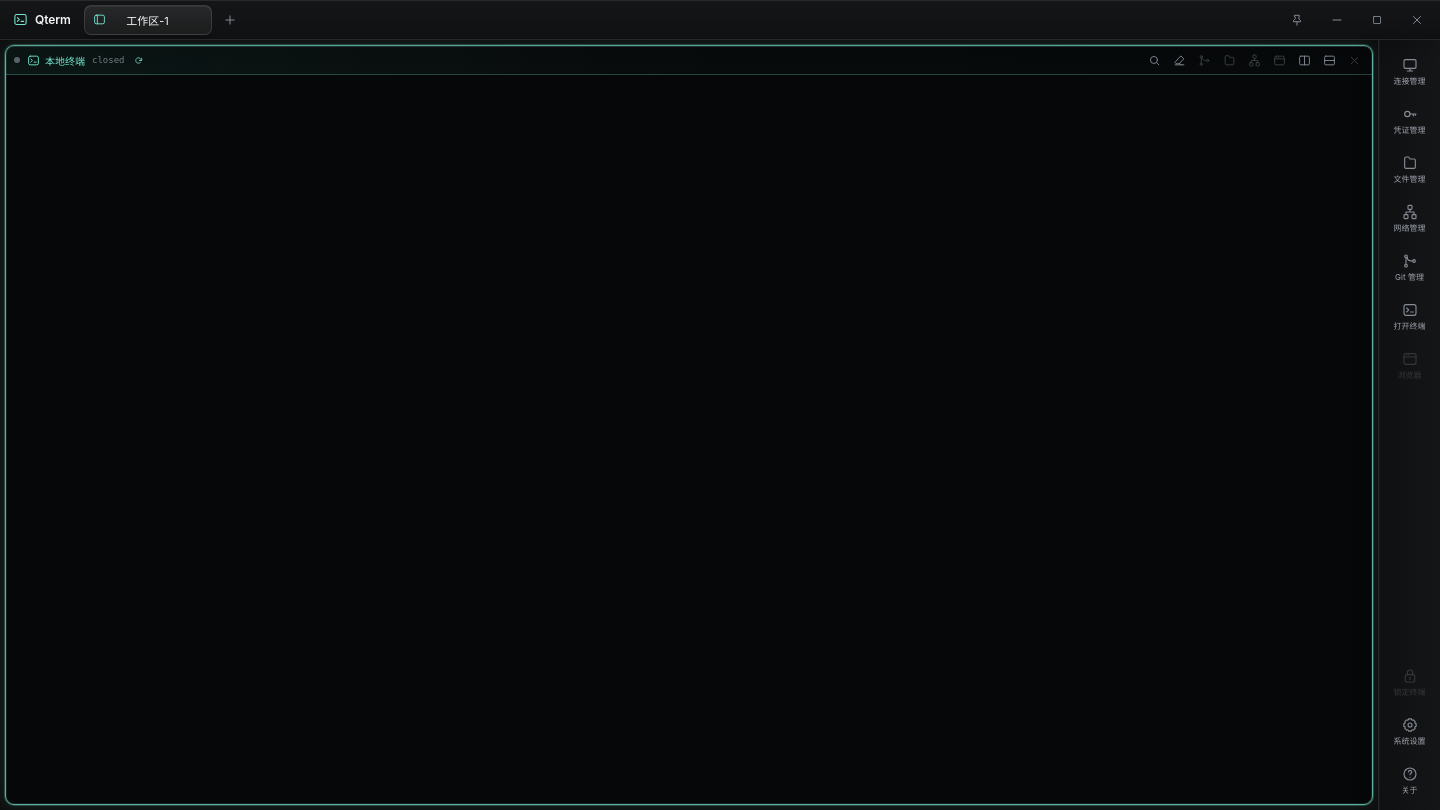
closes other workspaces with one confirmation through the real shell and reducer
This screenshot has width=1440, height=810.
Click the button named "新建工作区".
click(230, 20)  # box [217, 6, 243, 32]
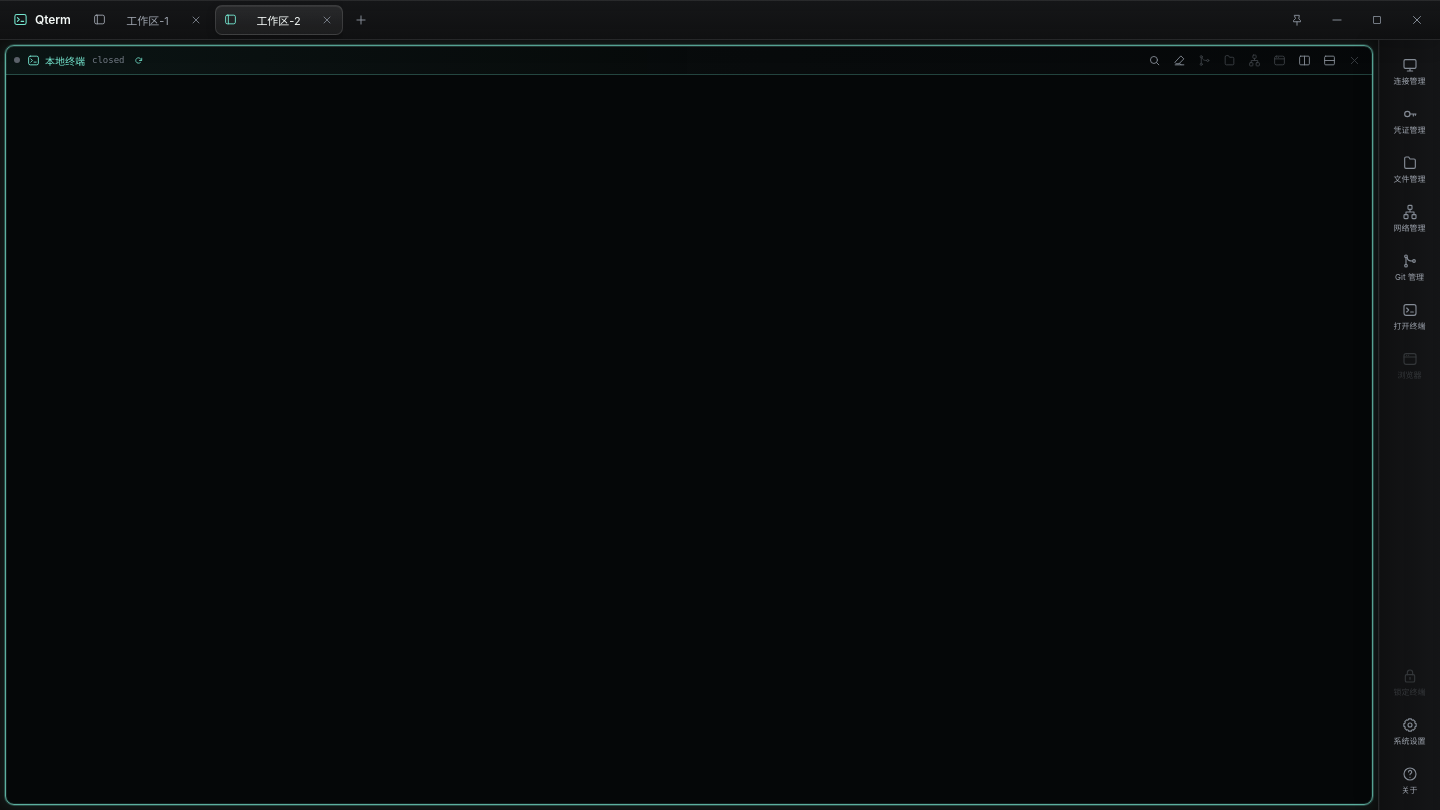
Click the button named "新建工作区".
click(361, 20)  # box [348, 6, 374, 32]
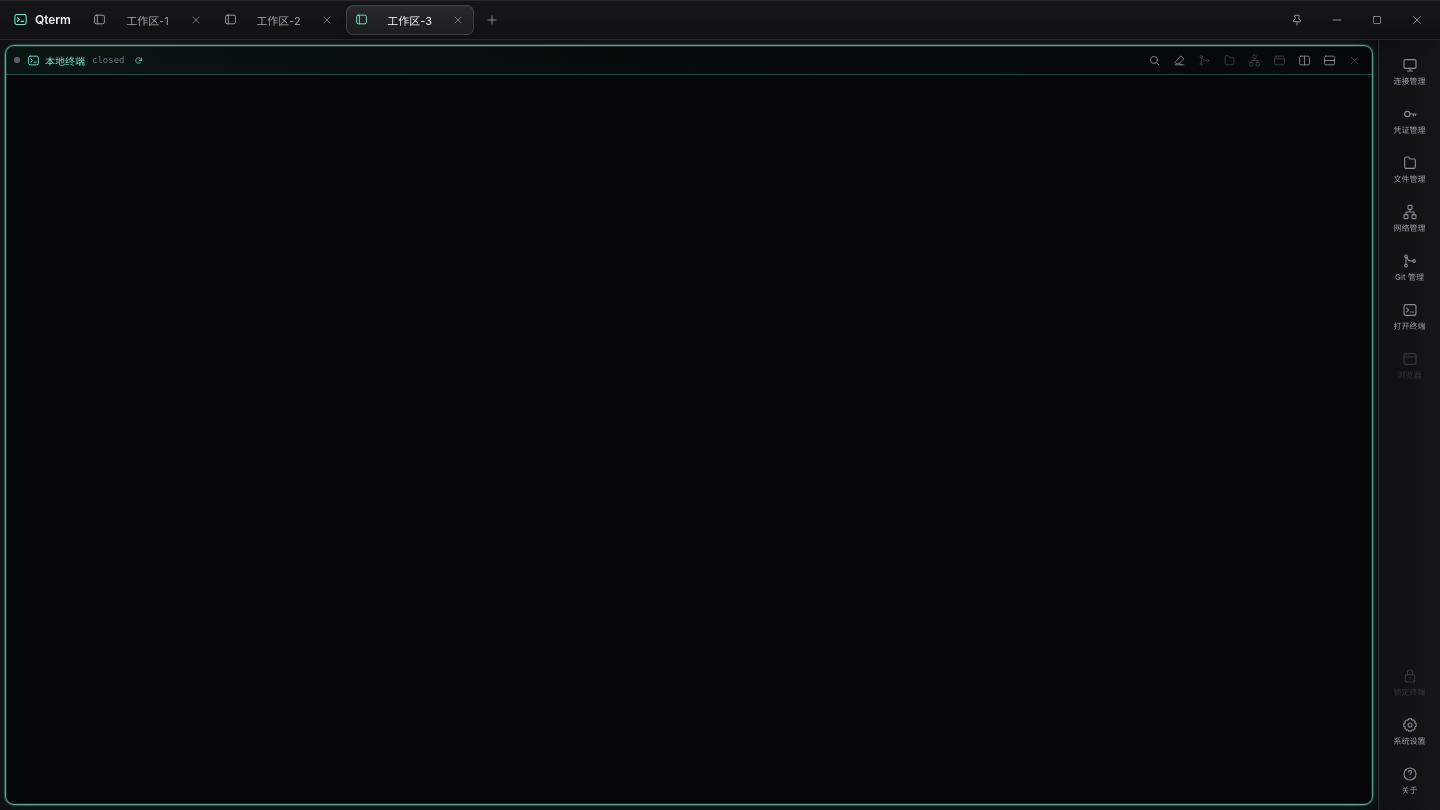
Right-click the button "工作区-2".
right_click(279, 20)  # box [216, 6, 342, 34]
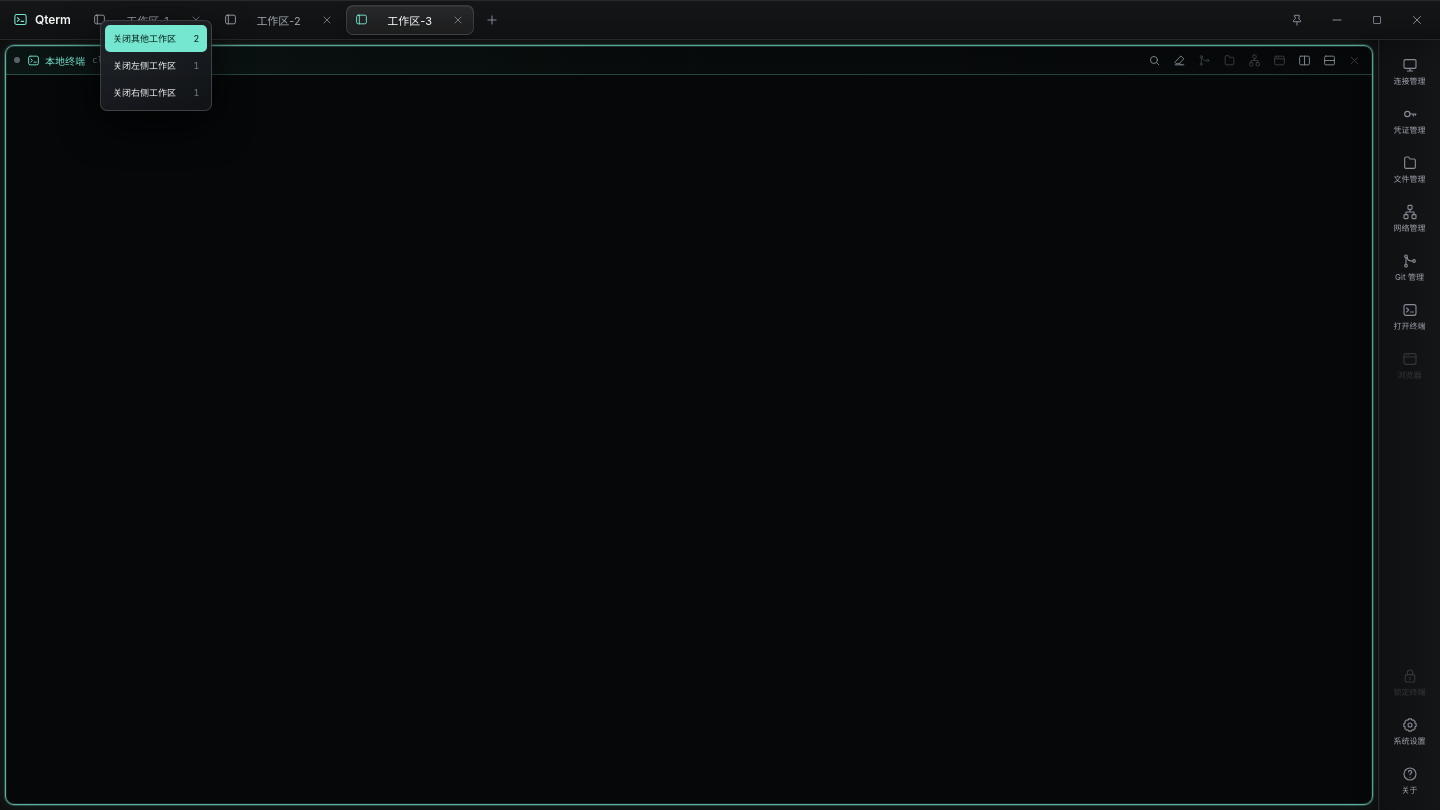
Click the menu item "关闭其他工作区 2".
click(156, 38)  # box [105, 25, 207, 52]
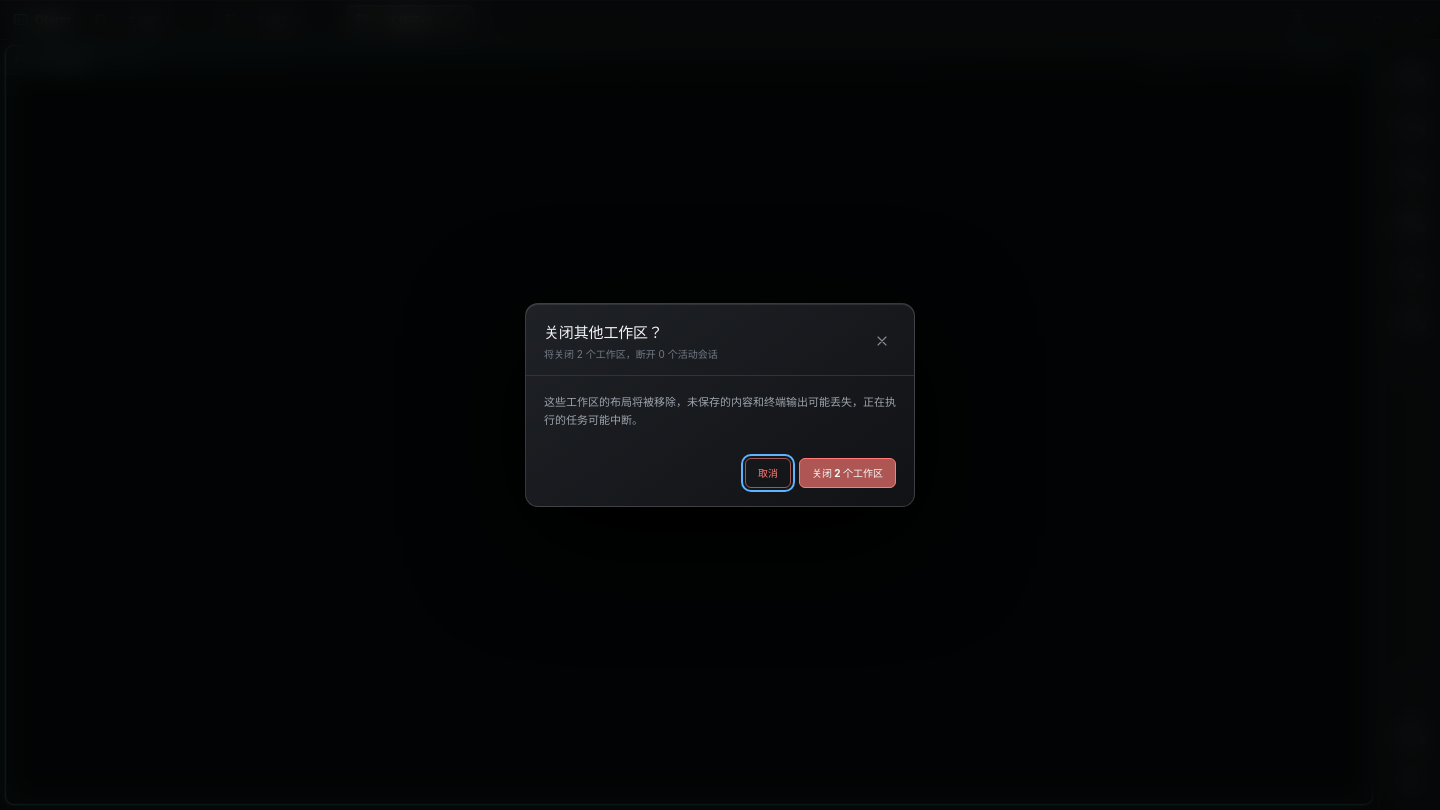
expect the number of dialogs is 1: met, box [525, 303, 915, 507]
Press 1
Click the button "关闭 2 个工作区".
click(848, 473)  # box [799, 458, 896, 488]
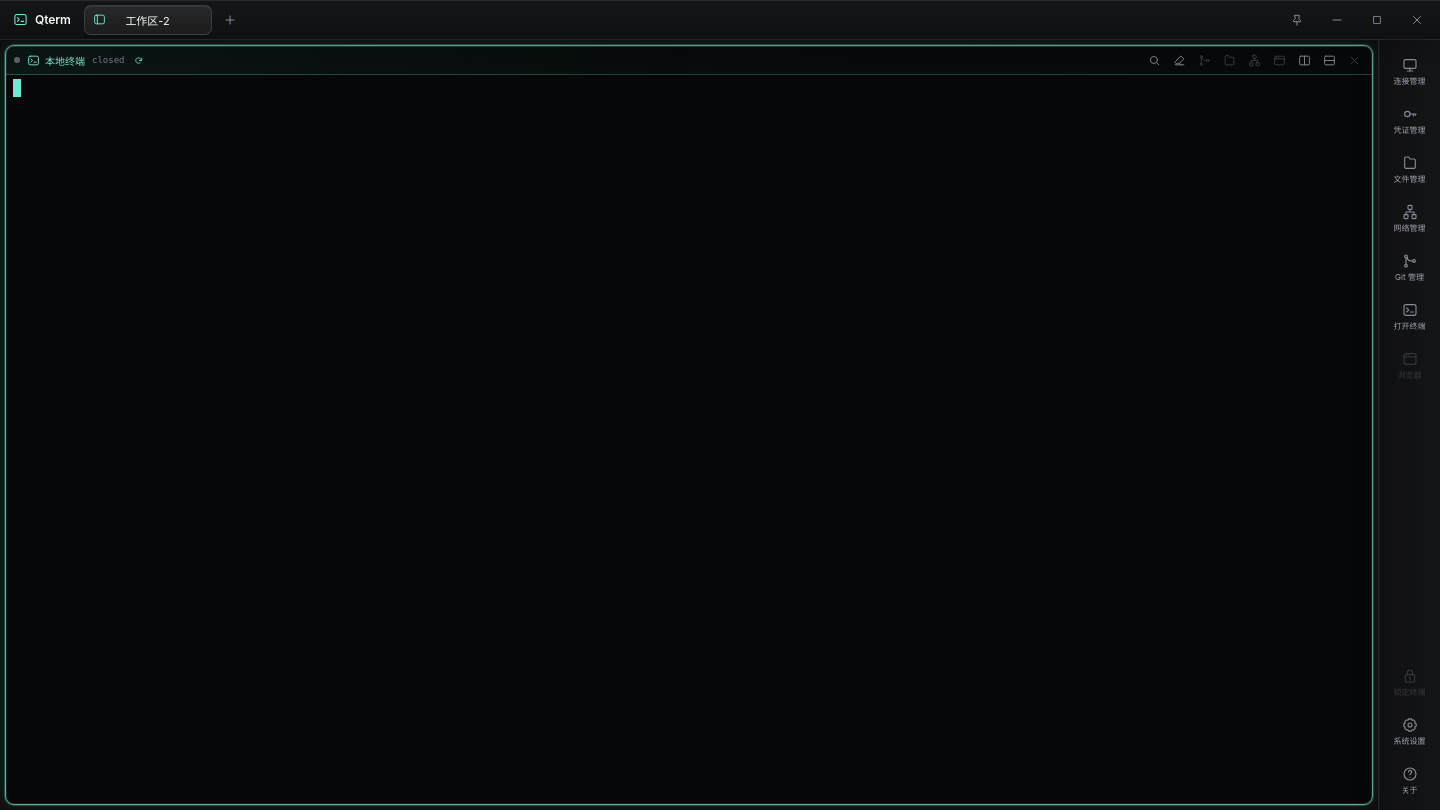
expect the button "工作区-3" is not shown: met
expect the button "工作区-1" is gone: met
expect the dialog is gone: met
